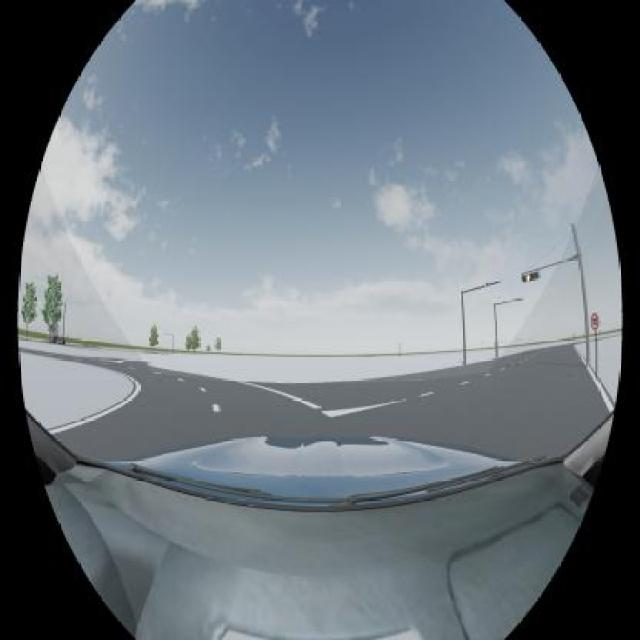forb_speed_over_100: (591, 312, 598, 330)
